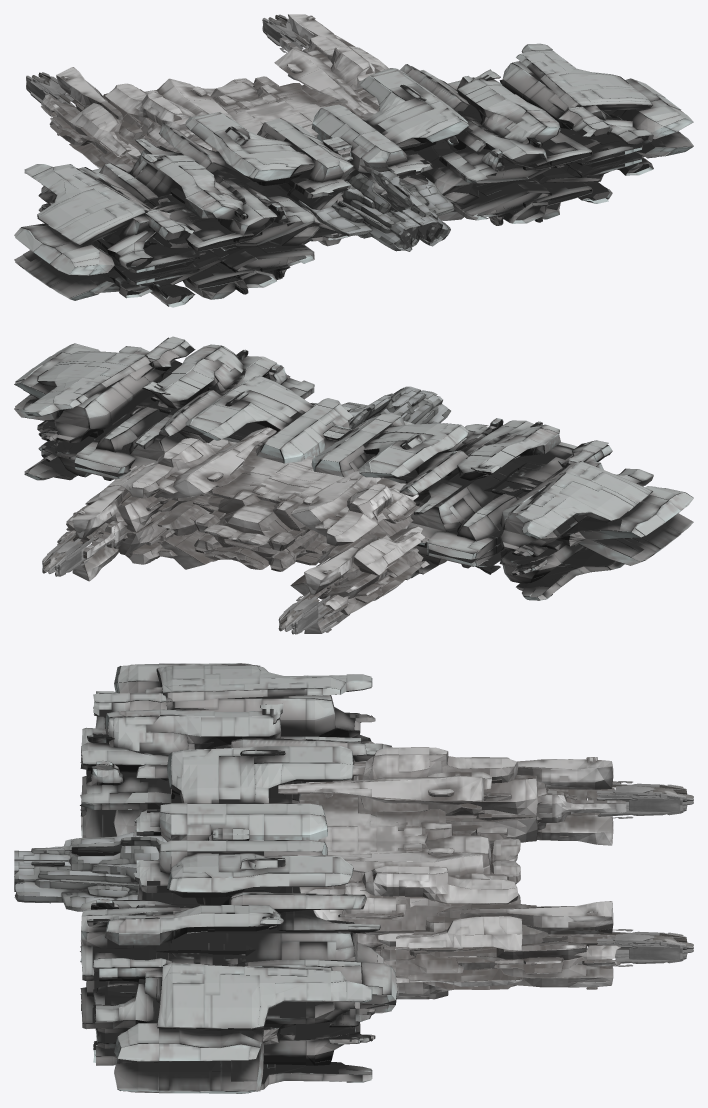
The model's file is CARIER_001.fbx.
The picture shows the model from 3 angles, top to bottom: view 1: azimuth 30°, elevation 25°; view 2: azimuth 150°, elevation 25°; view 3: azimuth 270°, elevation 25°; orthographic projection. The views are drawn at different scales.
Parts seen in each view (by area): view 1: CARIER_001; view 2: CARIER_001; view 3: CARIER_001.
Part boxes in pixels (<box>): CARIER_001: <box>14,14,693,307</box>; CARIER_001: <box>14,336,693,634</box>; CARIER_001: <box>14,663,693,1093</box>.
Bounding box in the file's own units: 209 × 36.2 × 152.
